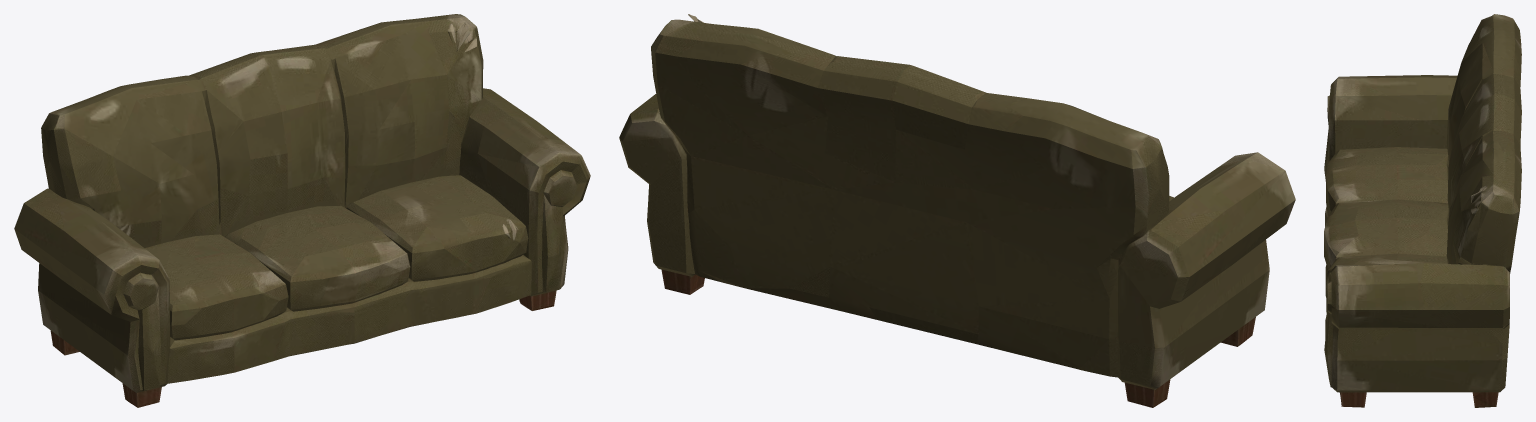
Rendered from couch.glb.
3 views of the same model, side by side, from view 1: azimuth 30°, elevation 25°; view 2: azimuth 150°, elevation 25°; view 3: azimuth 270°, elevation 25° (orthographic). The views are drawn at different scales.
Bounding box in the file's own units: 1.9 × 0.9038 × 0.7334.
1 material, 1 textured.
